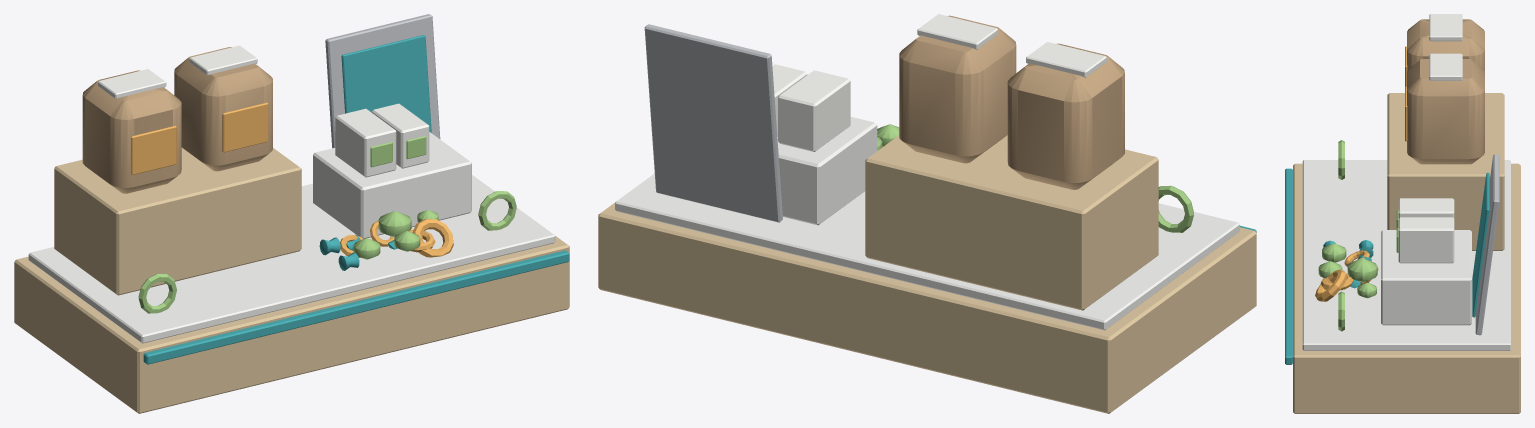
File: pet-shop-and-grooming-salon-window-display-platform-e2a5ffba__34584.glb
3 views of the same model, side by side, from view 1: azimuth 30°, elevation 25°; view 2: azimuth 150°, elevation 25°; view 3: azimuth 270°, elevation 25° (orthographic). The views are drawn at different scales.
Parts seen in each view (by area): view 1: window-display-platform; view 2: window-display-platform; view 3: window-display-platform.
Part boxes in pixels (left/top/right/bottom): window-display-platform: left=14, top=14, right=569, bottom=413; window-display-platform: left=598, top=14, right=1256, bottom=413; window-display-platform: left=1285, top=14, right=1520, bottom=413.
Bounding box in the file's own units: 1.4 × 0.7883 × 0.724.
